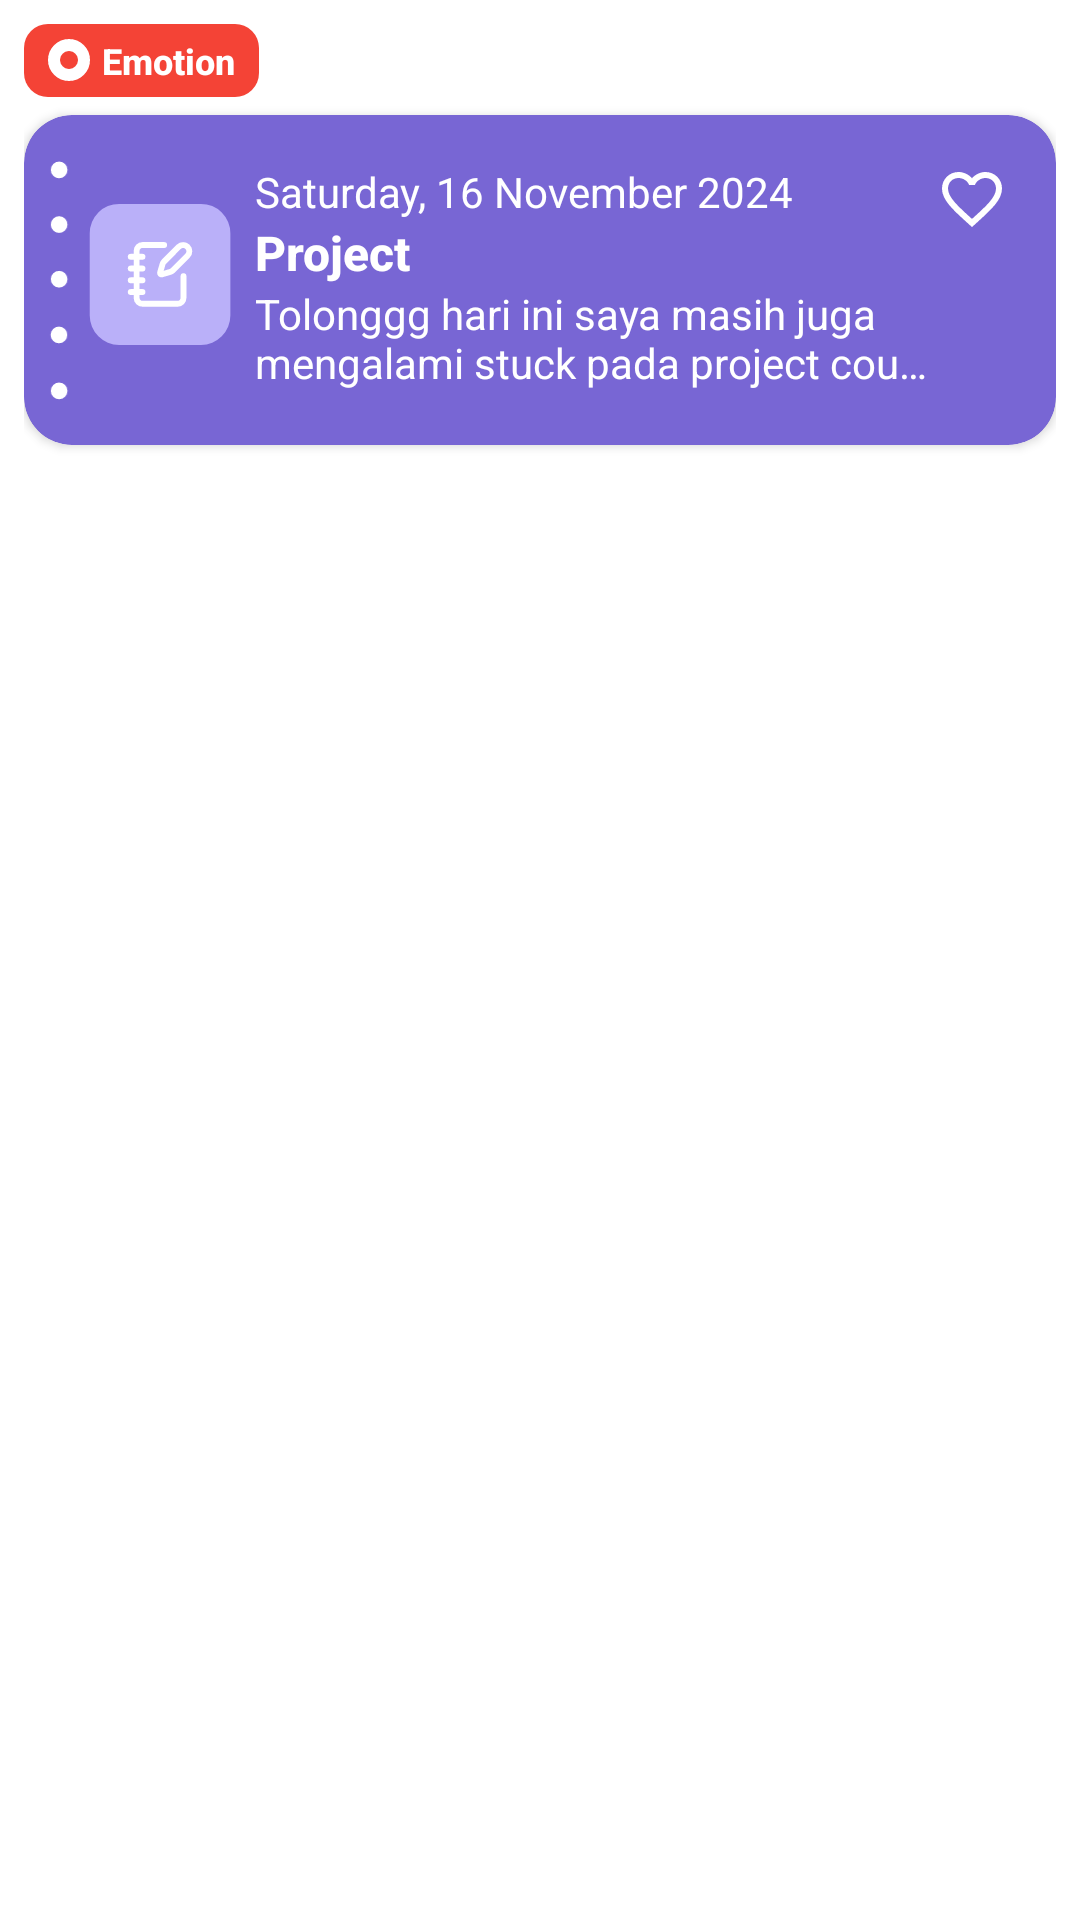

Screen size 1080x1920. Icon name, then its center in pixels as [x,y]:
Favorite: [972,199]
